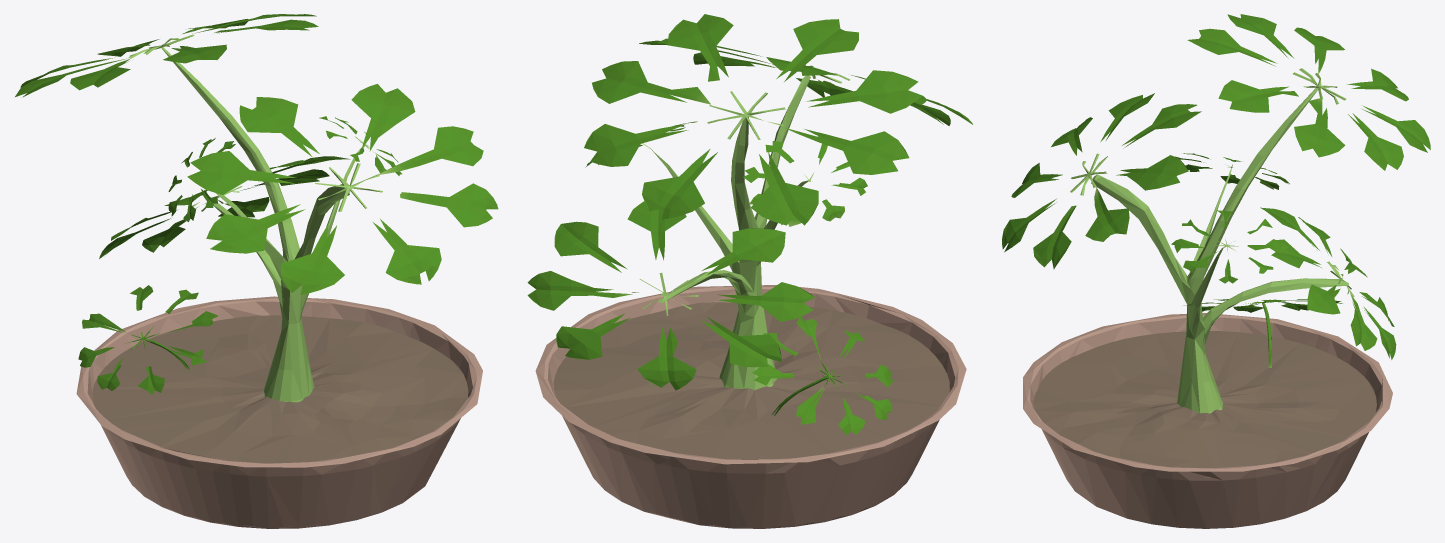
Rendered from sh-bsby-decorative-plant.glb.
3 views of the same model, side by side, from view 1: azimuth 30°, elevation 25°; view 2: azimuth 150°, elevation 25°; view 3: azimuth 270°, elevation 25° (orthographic). The views are drawn at different scales.
Parts seen in each view (by area): view 1: Circle.006, Circle, Plane.066_Plane.096, Plane.059_Plane.089, Plane.051_Plane.081; view 2: Circle.006, Plane.066_Plane.096, Circle, Plane.059_Plane.089, Plane.051_Plane.081; view 3: Circle.006, Circle, Plane.066_Plane.096, Plane.059_Plane.089, Plane.051_Plane.081.
Part boxes in pixels (x1,y1,x2,y2): Circle.006: (92, 315, 468, 468); Circle: (76, 296, 482, 528); Plane.066_Plane.096: (15, 14, 498, 394); Plane.059_Plane.089: (161, 47, 364, 402); Plane.051_Plane.081: (128, 34, 382, 211); Circle.006: (553, 302, 949, 459); Plane.066_Plane.096: (527, 14, 972, 435); Circle: (535, 285, 966, 528); Plane.059_Plane.089: (632, 75, 813, 389); Plane.051_Plane.081: (707, 64, 849, 139); Circle.006: (1033, 331, 1376, 477); Circle: (1023, 313, 1392, 528); Plane.066_Plane.096: (1002, 14, 1430, 367); Plane.059_Plane.089: (1091, 87, 1354, 413); Plane.051_Plane.081: (1070, 68, 1346, 253).
Size of the model in its own units: 0.9182 by 1 by 0.9766.
Materials: 4 (1 with a texture image).
